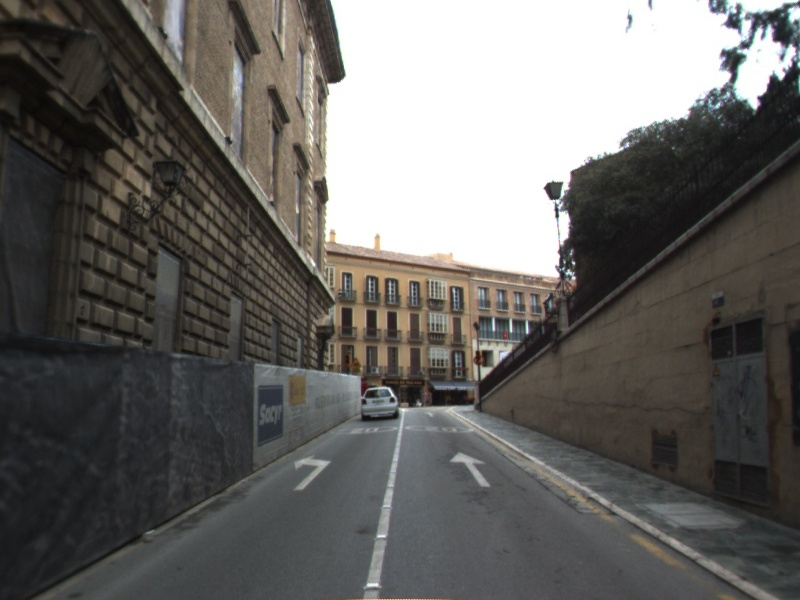LEFT: (291, 453, 332, 492)
STRAIGHT: (448, 450, 492, 489), (423, 410, 437, 419)
